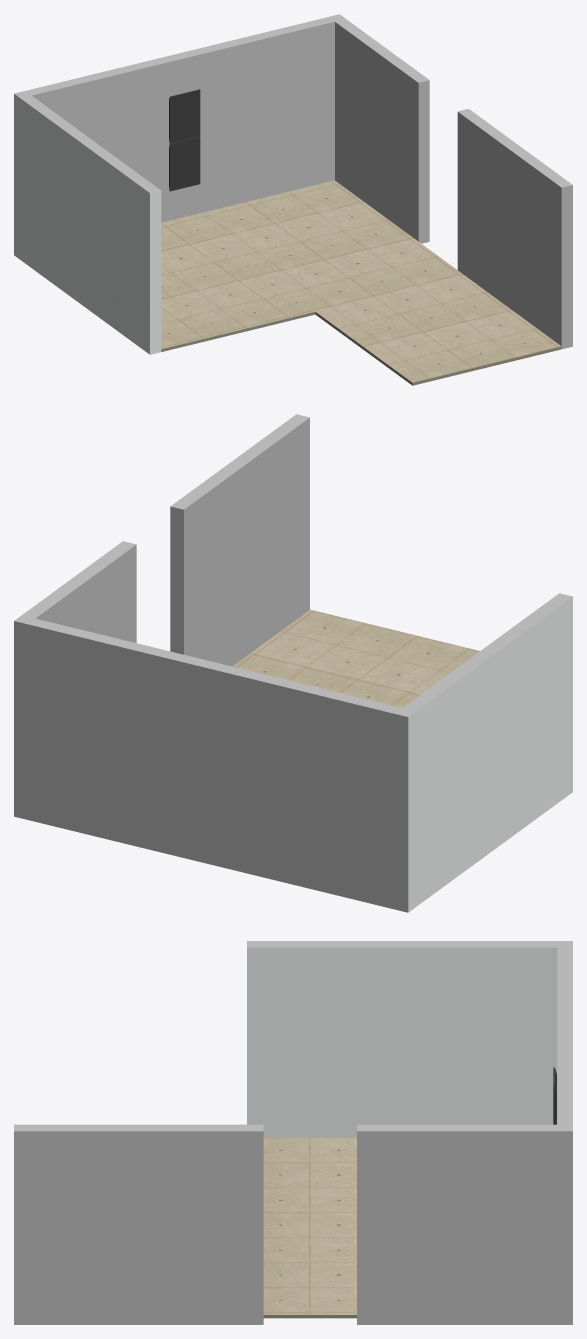
File: manilalights2.glb
3 renders of one model, top to bottom at view 1: azimuth 30°, elevation 25°; view 2: azimuth 150°, elevation 25°; view 3: azimuth 270°, elevation 25°, orthographic. The views are drawn at different scales.
Visible parts, largest first — view 1: SketchUpModel_default, [Concrete Tile], *2_1, Opaque(64,64,64), *21; view 2: SketchUpModel_default, *2_1, [Concrete Tile]; view 3: SketchUpModel_default, *2_1, [Concrete Tile].
Boxes of the visible parts, x1,y1,x2,y2 form: SketchUpModel_default: [14, 14, 572, 349]; [Concrete Tile]: [161, 180, 561, 382]; *2_1: [14, 94, 161, 354]; Opaque(64,64,64): [169, 89, 200, 191]; *21: [161, 311, 561, 385]; SketchUpModel_default: [14, 414, 572, 912]; *2_1: [408, 597, 572, 912]; [Concrete Tile]: [232, 609, 479, 707]; SketchUpModel_default: [14, 941, 572, 1324]; *2_1: [247, 947, 557, 1137]; [Concrete Tile]: [263, 1137, 356, 1314].
Bounding box in the file's own units: 5.8 × 2.75 × 7.2.
6 materials, 1 textured.
